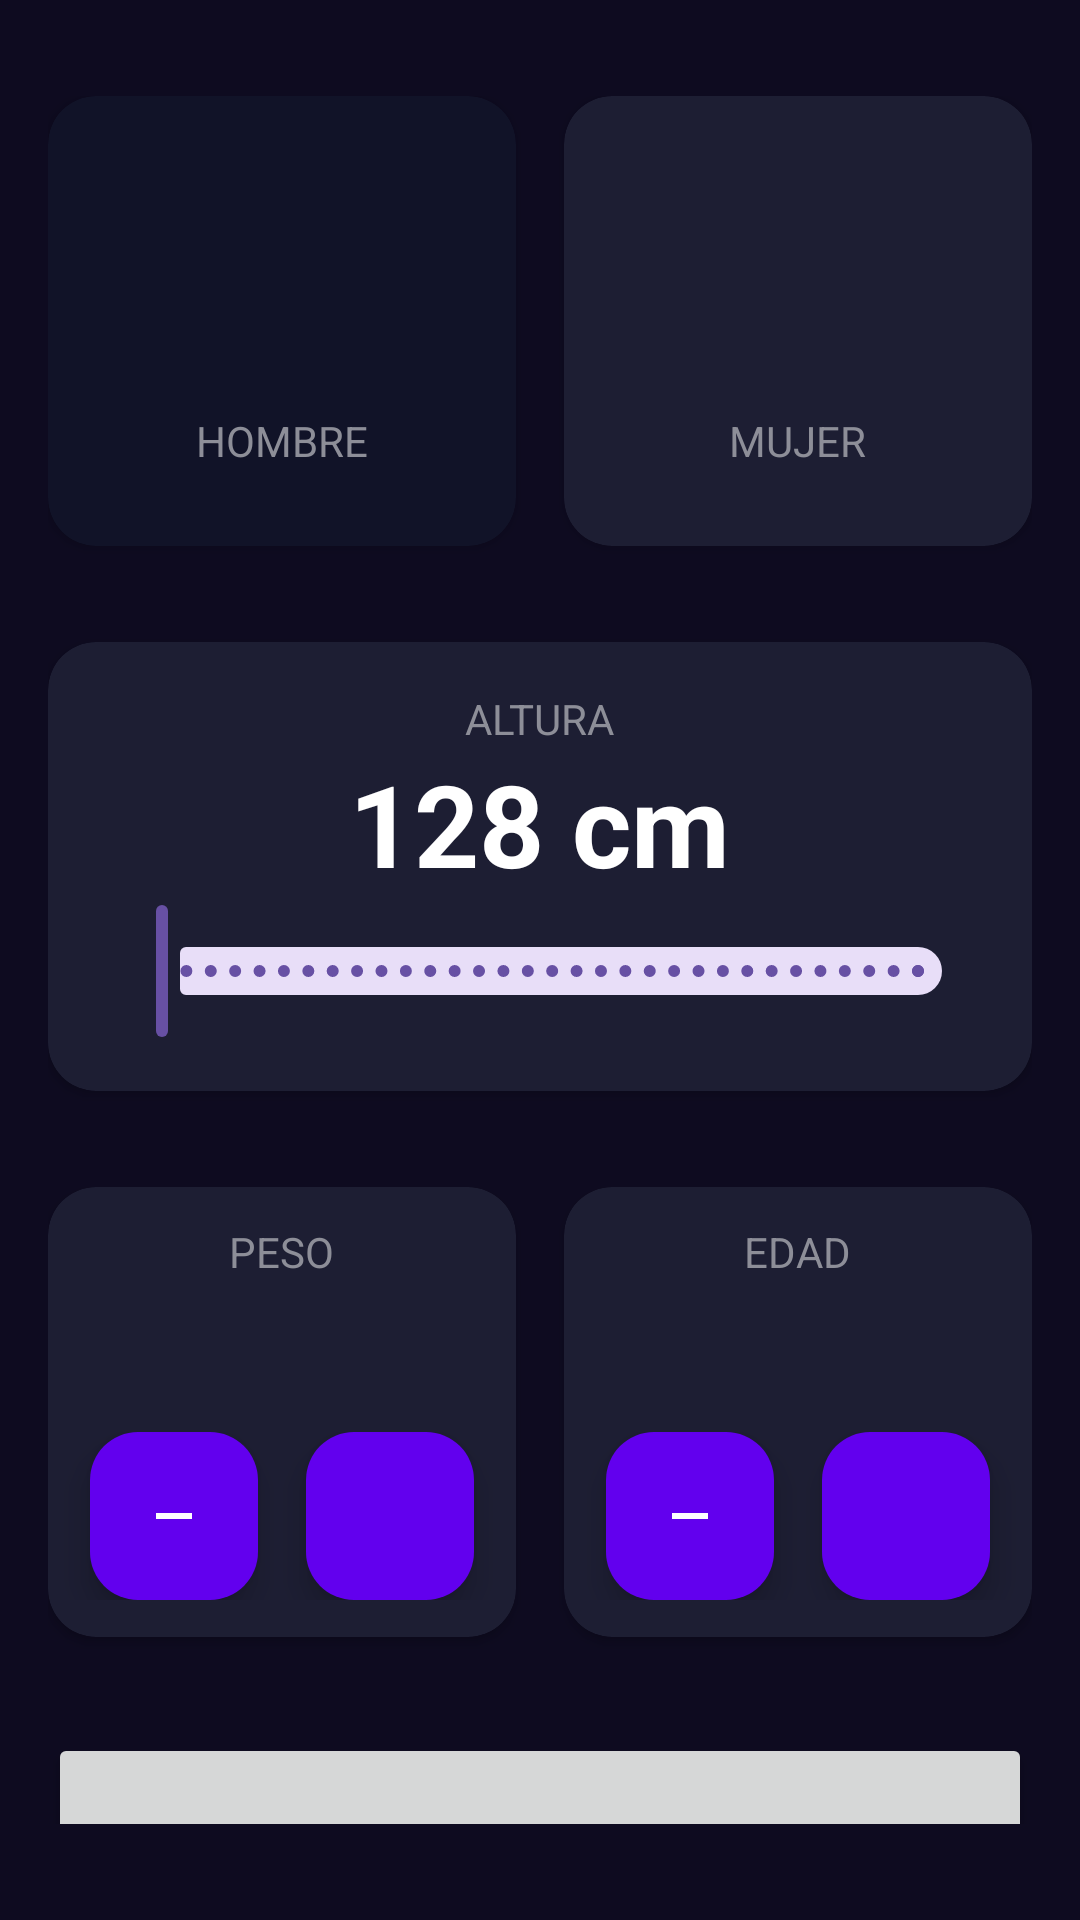

Locate icon controls on the screen. Image size 1080x1920, boxes as (x1, y1, x2, y2).
substract: (90, 1432, 258, 1600), (606, 1432, 774, 1600)
